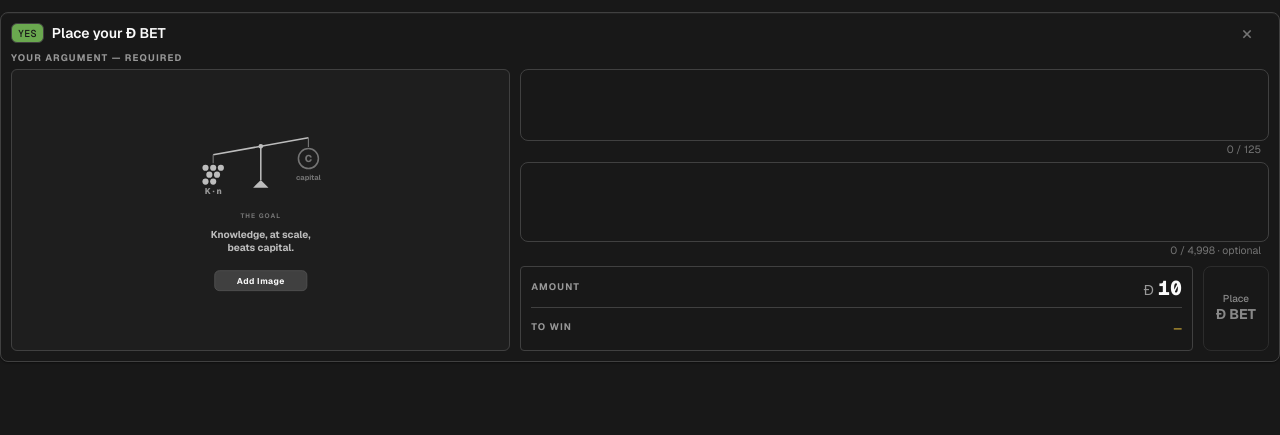
Test: BetComposer C1 protective landing (R-5) › render::c1-copy-verbatim-submit-disabled-no-auto-resubmit
Type "The base rate argument." into the text box named "Argument title". click: (895,105)
box: [520,69,1269,141]
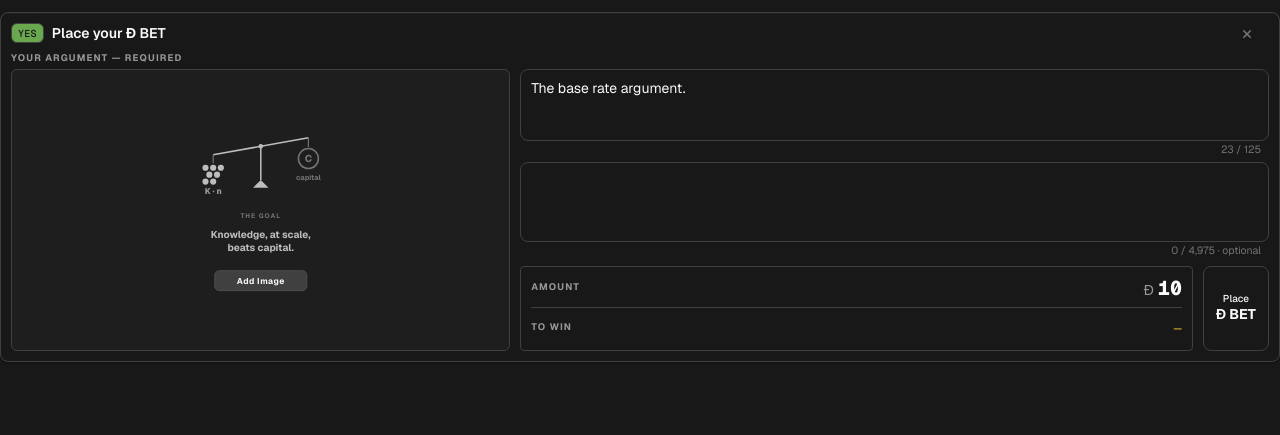
Click the button "Place Đ BET". click: (1236,308)
box: [1203,266,1269,350]
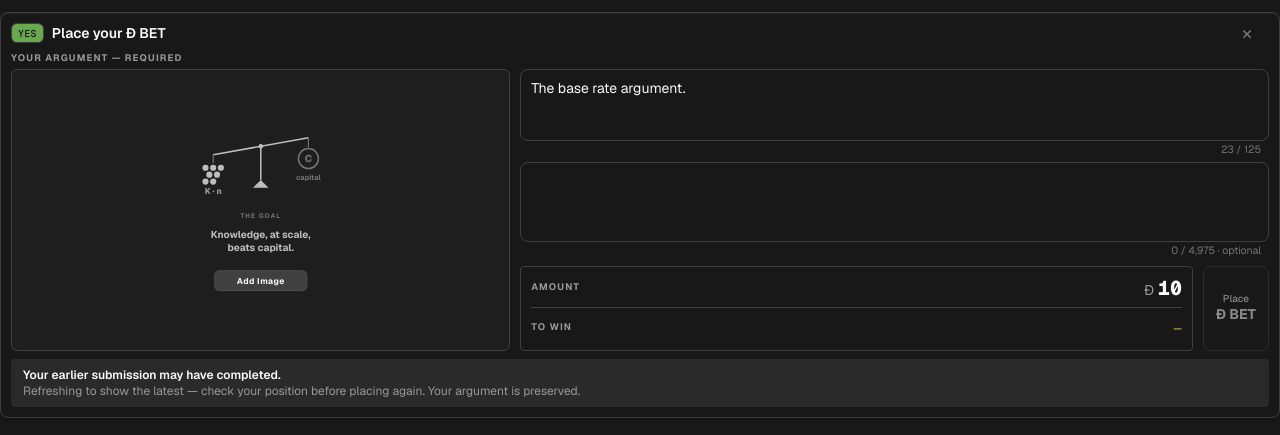
Expected: the text "Your earlier submission may have completed." is shown, [23,366,281,382]
Expected: the text "Refreshing to show the latest — check your position before placing again. Your argument is preserved." is shown, [23,382,580,398]
Expected: the button "Place Đ BET" is disabled, [1203,266,1269,350]
